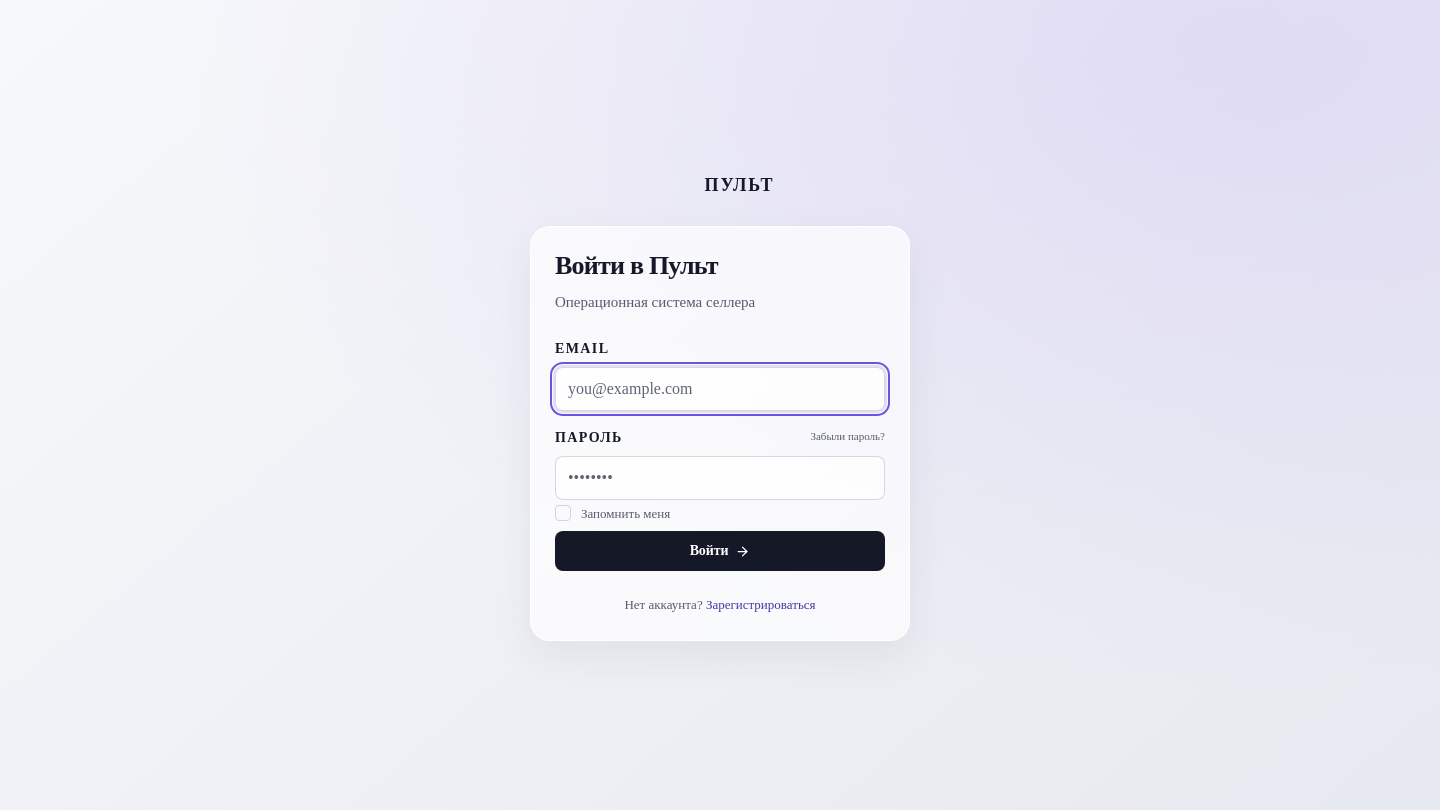
auth controls expose their existing labels and browser purposes › MFA code has a linked label and one-time-code autofill
Type "seller@example.invalid" into the field with placeholder "you@example.com". click: (720,388)
box: [555,366,885,410]
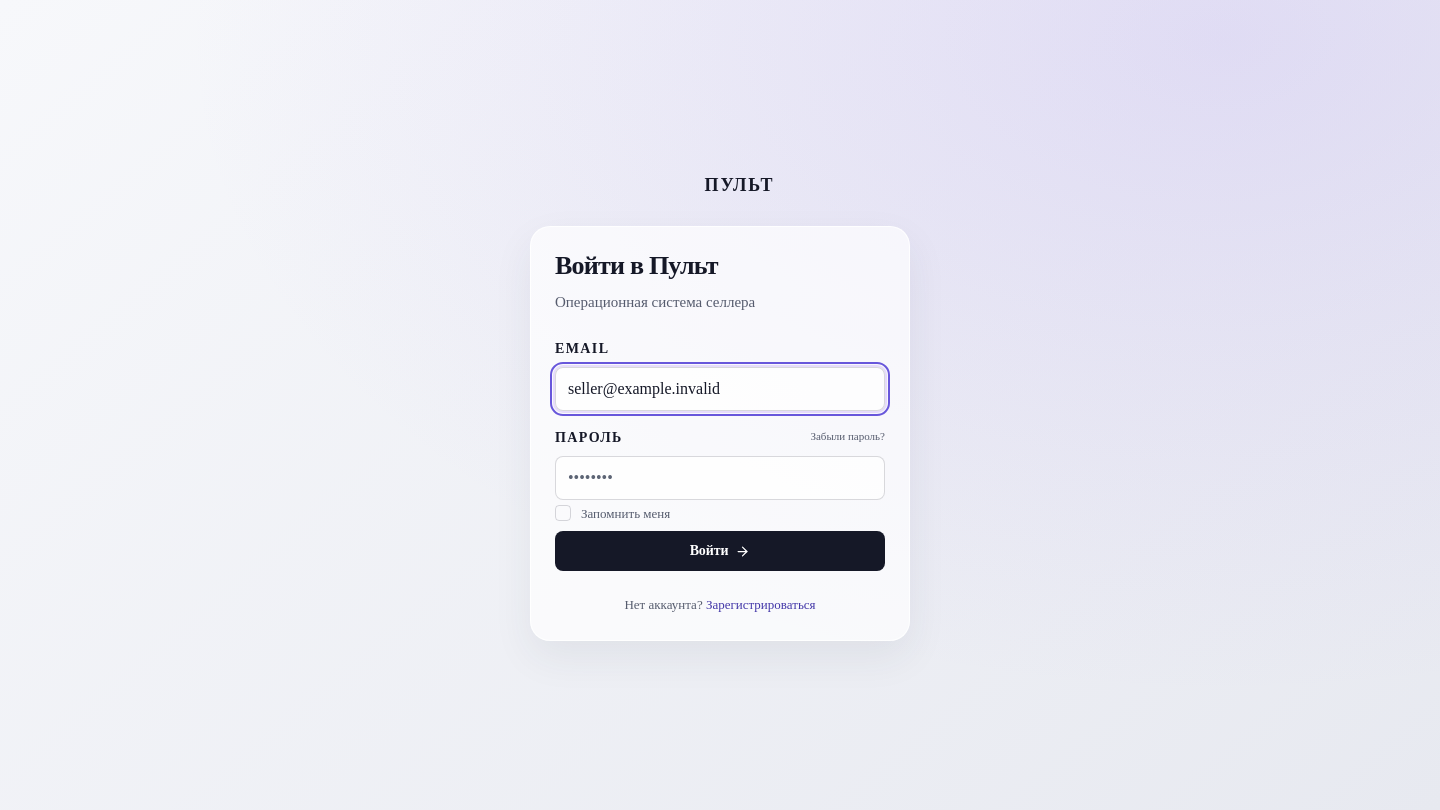
Type "synthetic-password" into the password field with placeholder "••••••••". click: (720,478)
box: [555,456,885,500]
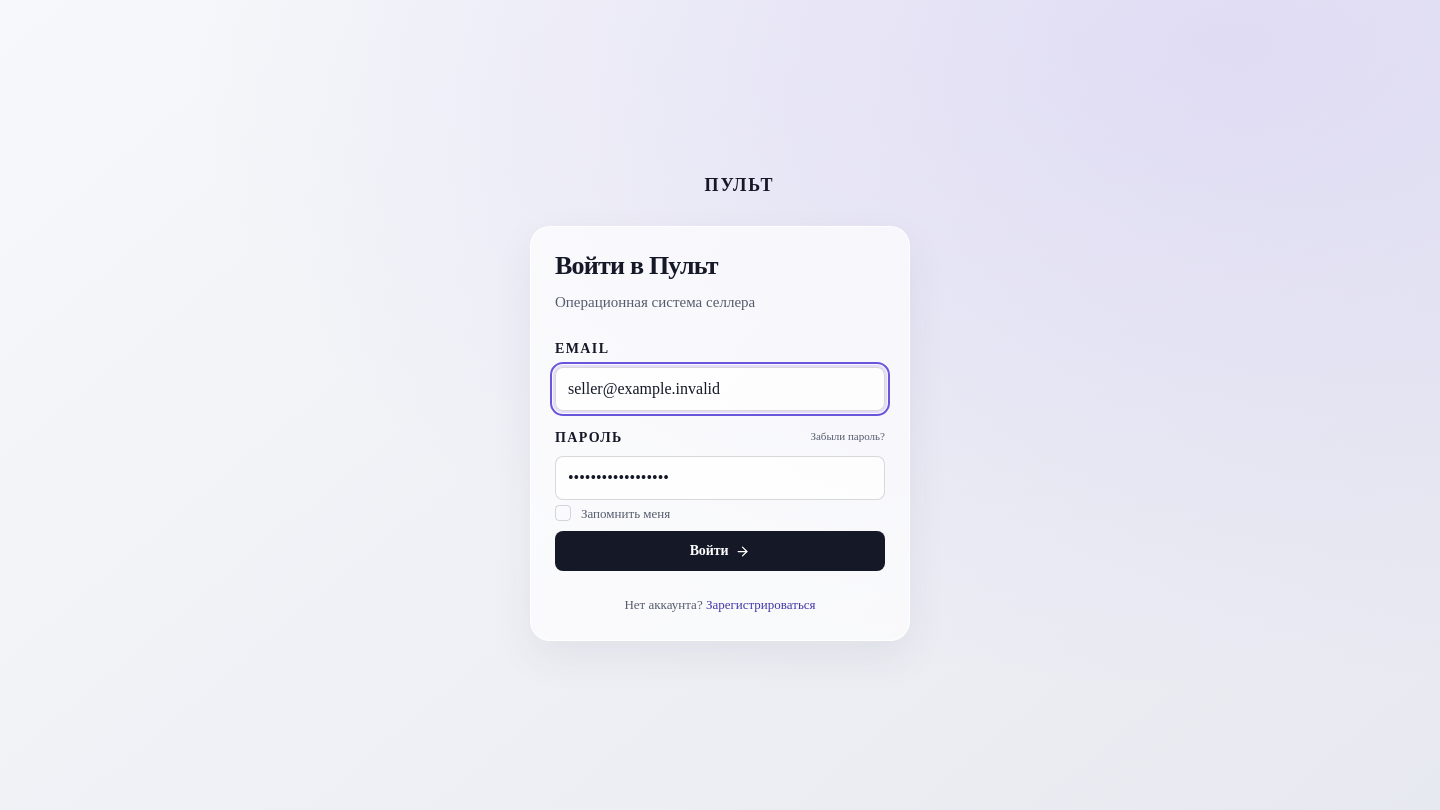
Submit the form, box [555,338,885,571]
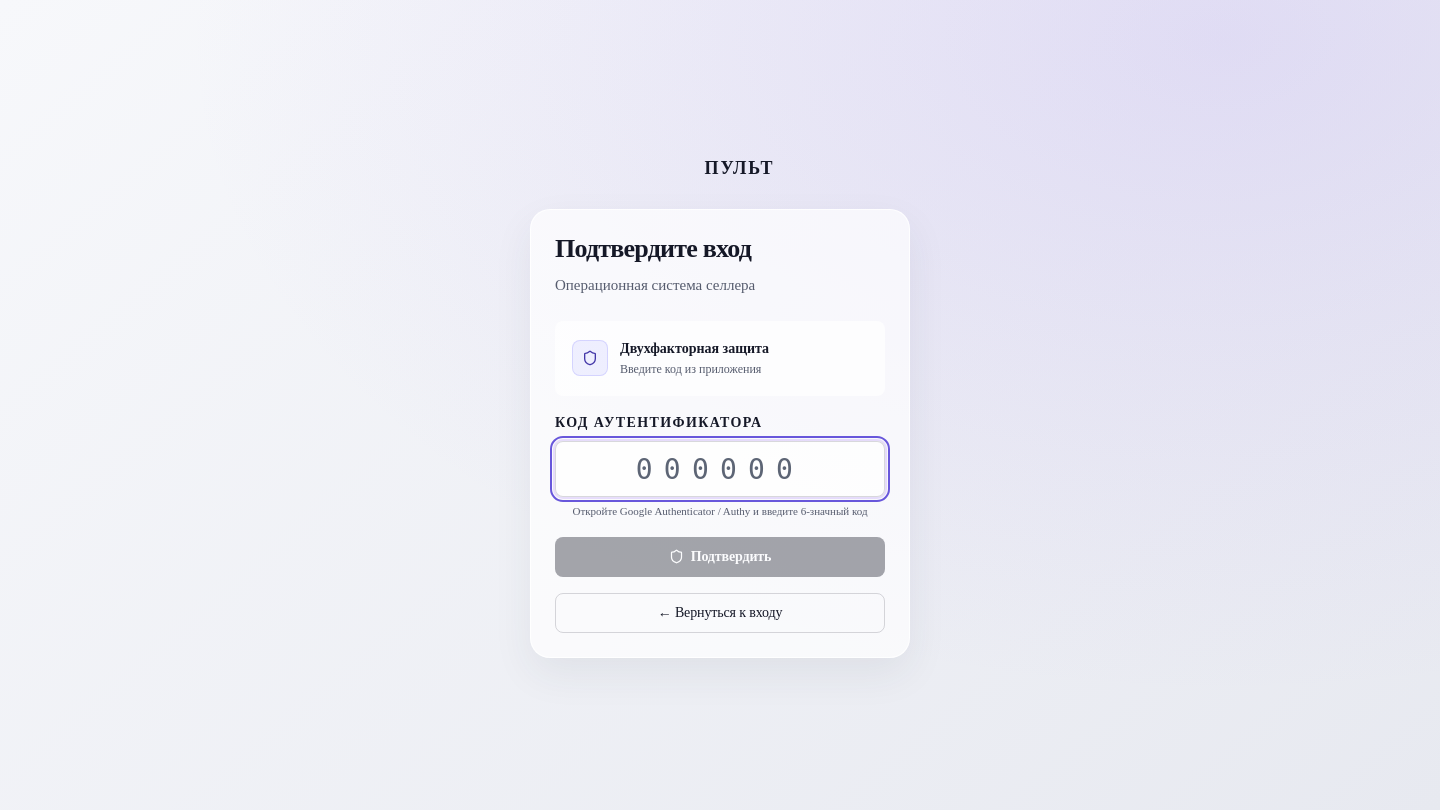
Expected: the field with placeholder "000000" is shown, [555,441,885,497]
